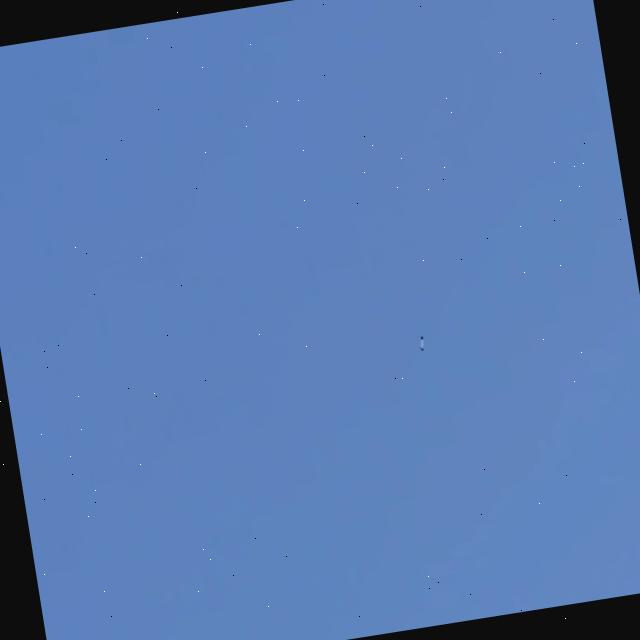rocket: (418, 337, 425, 354)
